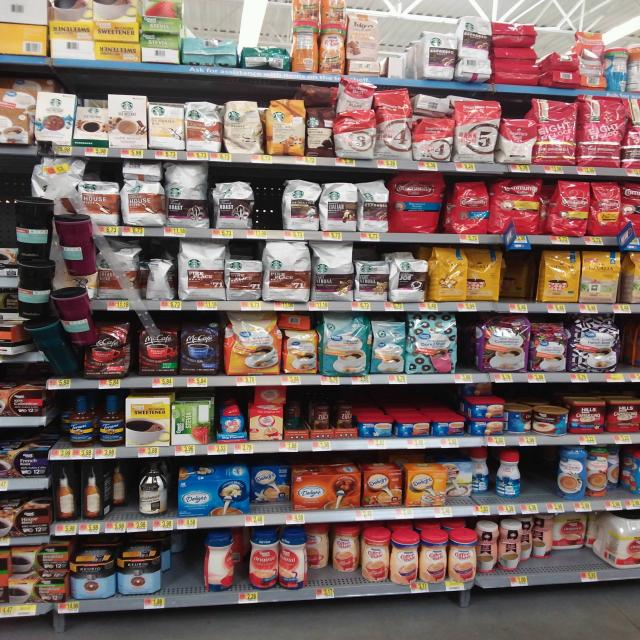void: (382, 11, 422, 82), (169, 531, 201, 596), (527, 448, 556, 502)
